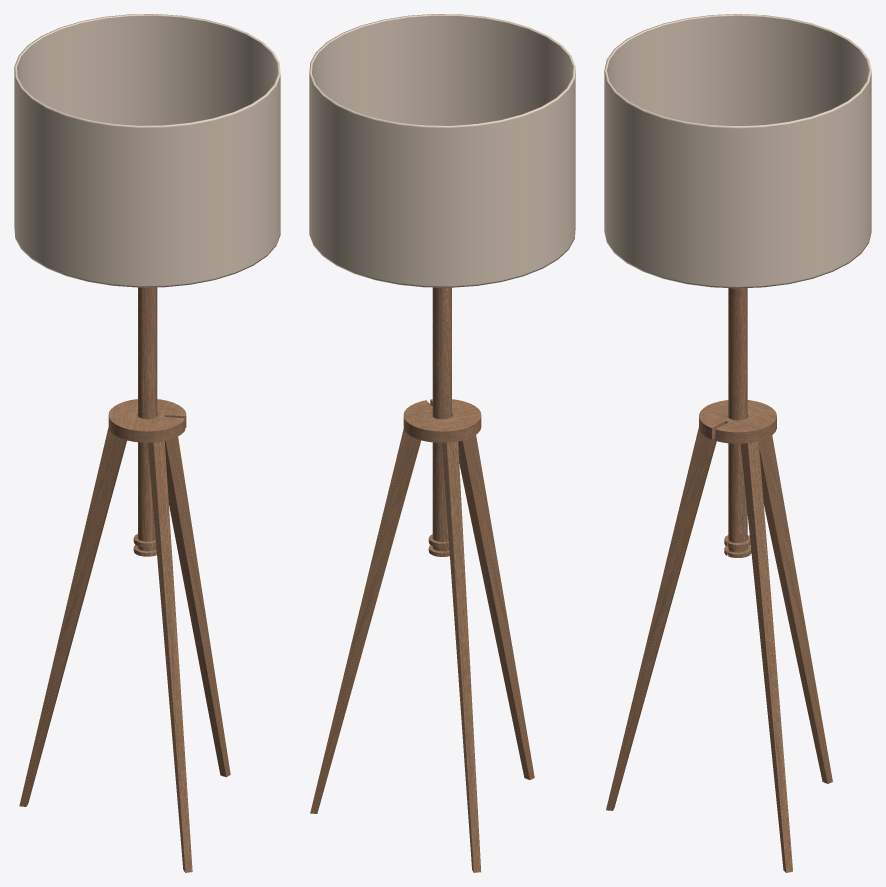
The model's file is lauters.glb.
3 views of the same model, side by side, from view 1: azimuth 30°, elevation 25°; view 2: azimuth 150°, elevation 25°; view 3: azimuth 270°, elevation 25° (orthographic).
Parts seen in each view (by area): view 1: Cylinder; view 2: Cylinder; view 3: Cylinder.
Part boxes in pixels (x1,y1,x2,y2): Cylinder: [14, 14, 280, 872]; Cylinder: [309, 14, 575, 872]; Cylinder: [604, 14, 871, 872].
Bounding box in the file's own units: 0.37 × 1.15 × 0.37.
4 materials, 2 textured.
